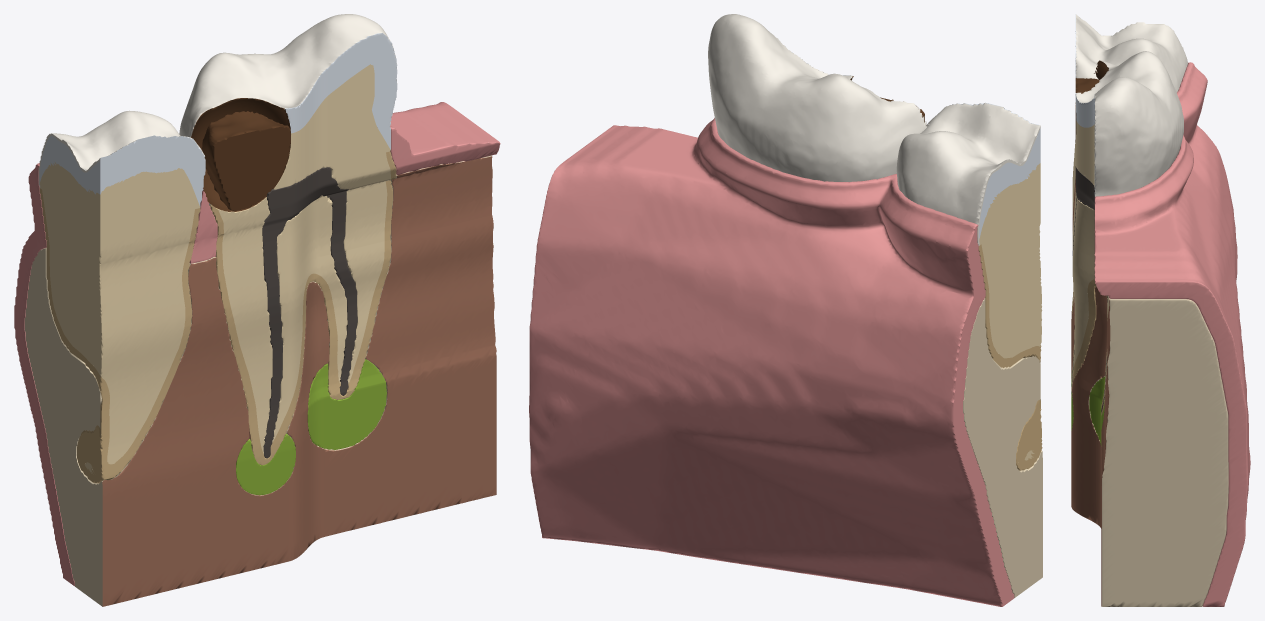
File: abscess-cut.glb
The picture shows the model from 3 angles, left to right: view 1: azimuth 30°, elevation 25°; view 2: azimuth 150°, elevation 25°; view 3: azimuth 270°, elevation 25°; orthographic projection. The views are drawn at different scales.
Parts seen in each view (by area): view 1: bone, teeth (×2), gum, pulp, lesion, decay; view 2: gum, teeth (×2), bone; view 3: bone, gum, teeth (×2), lesion, pulp, decay.
Part boxes in pixels (x1,y1,x2,y2): bone: [24, 155, 496, 606]; teeth (×2): [38, 14, 397, 483]; gum: [14, 102, 500, 586]; pulp: [262, 167, 357, 458]; lesion: [236, 359, 386, 495]; decay: [202, 111, 290, 211]; gum: [529, 118, 1014, 606]; teeth (×2): [708, 14, 1042, 470]; bone: [963, 298, 1042, 597]; bone: [1071, 179, 1228, 606]; gum: [1094, 62, 1250, 606]; teeth (×2): [1071, 14, 1187, 415]; lesion: [1071, 370, 1105, 445]; pulp: [1071, 166, 1107, 411]; decay: [1075, 78, 1099, 142].
Size of the model in its own units: 23.45 by 27.65 by 9.67.
